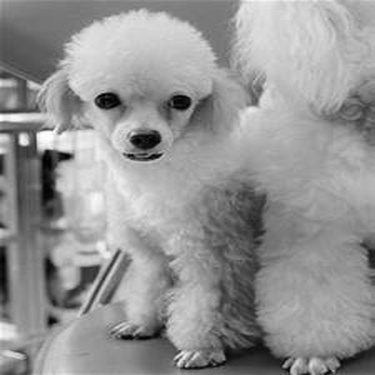dog: (29, 4, 369, 370)
